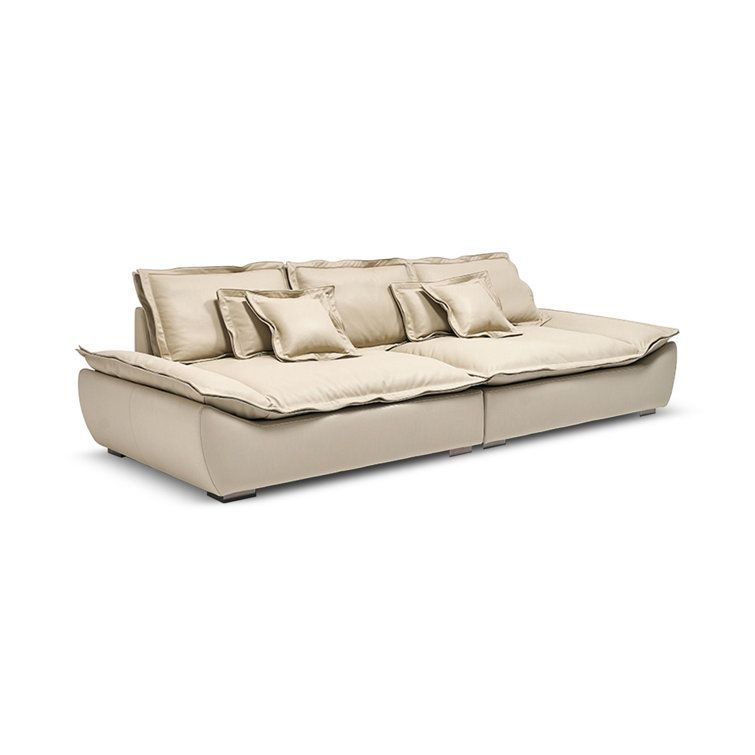3seatersofa: (78, 253, 677, 502), (135, 253, 537, 361)
backrest: (134, 253, 546, 362)
base: (81, 343, 676, 494)
leg: (207, 489, 256, 503), (482, 439, 506, 448), (449, 447, 472, 456), (108, 448, 127, 457), (639, 410, 655, 415)
pillow: (218, 285, 355, 361), (390, 271, 512, 340)
seat: (82, 310, 677, 418)
